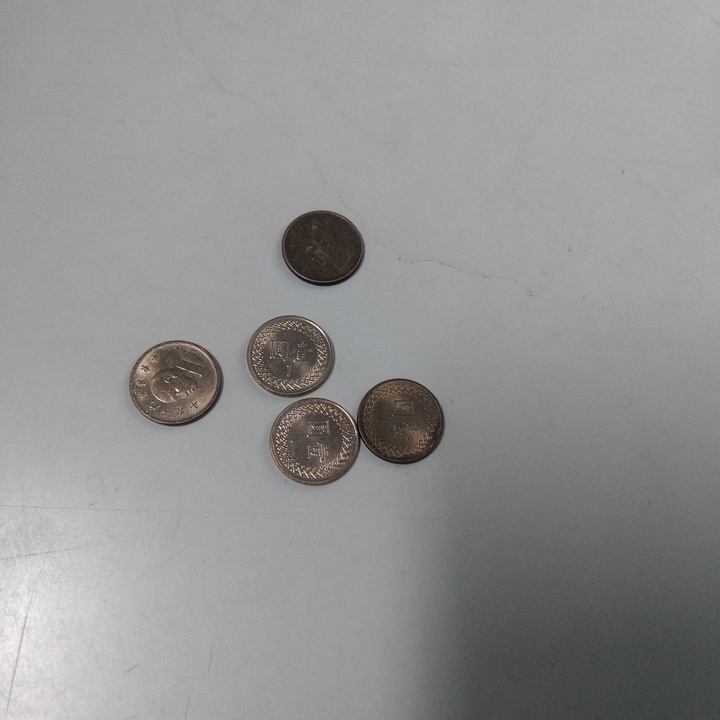1 dollar: (126, 337, 222, 429), (269, 398, 361, 487), (242, 310, 334, 397), (356, 377, 445, 466), (280, 208, 369, 287)
